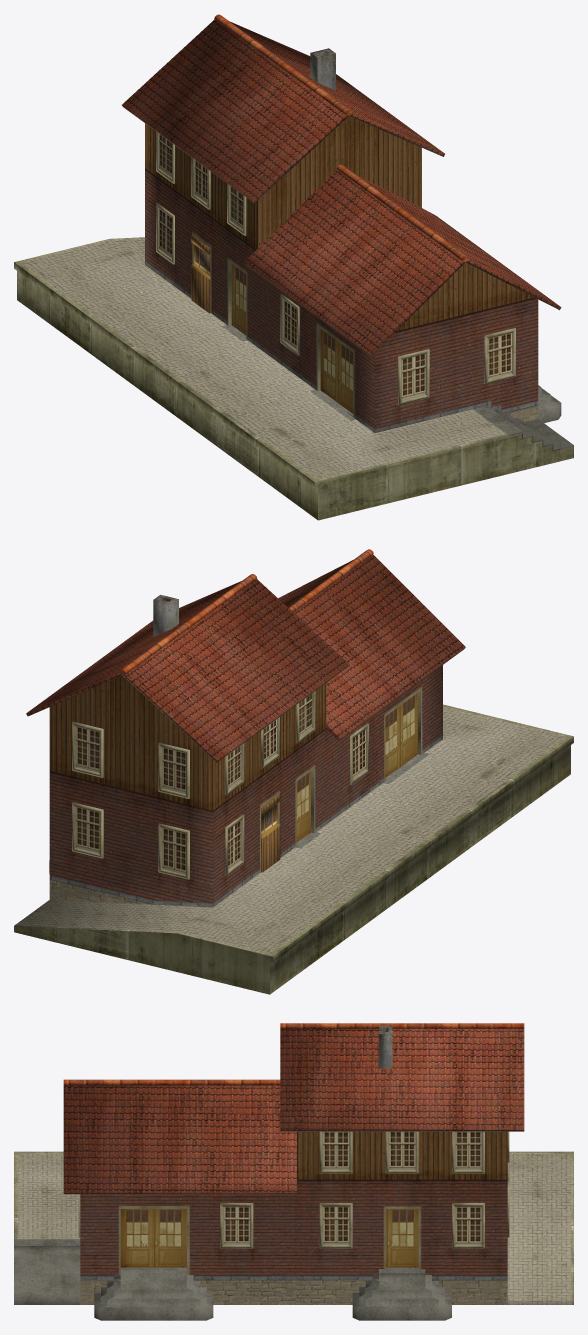
Rendered from house.obj.
3 renders of one model, top to bottom at view 1: azimuth 30°, elevation 25°; view 2: azimuth 150°, elevation 25°; view 3: azimuth 270°, elevation 25°, orthographic. The views are drawn at different scales.
Visible parts, largest first — view 1: Object_station_tex_jpg; view 2: Object_station_tex_jpg; view 3: Object_station_tex_jpg.
Part boxes in pixels (x1,y1,x2,y2): Object_station_tex_jpg: [14, 14, 573, 520]; Object_station_tex_jpg: [14, 549, 573, 994]; Object_station_tex_jpg: [14, 1023, 573, 1320].
Bounding box in the file's own units: 63.94 × 56.56 × 114.
